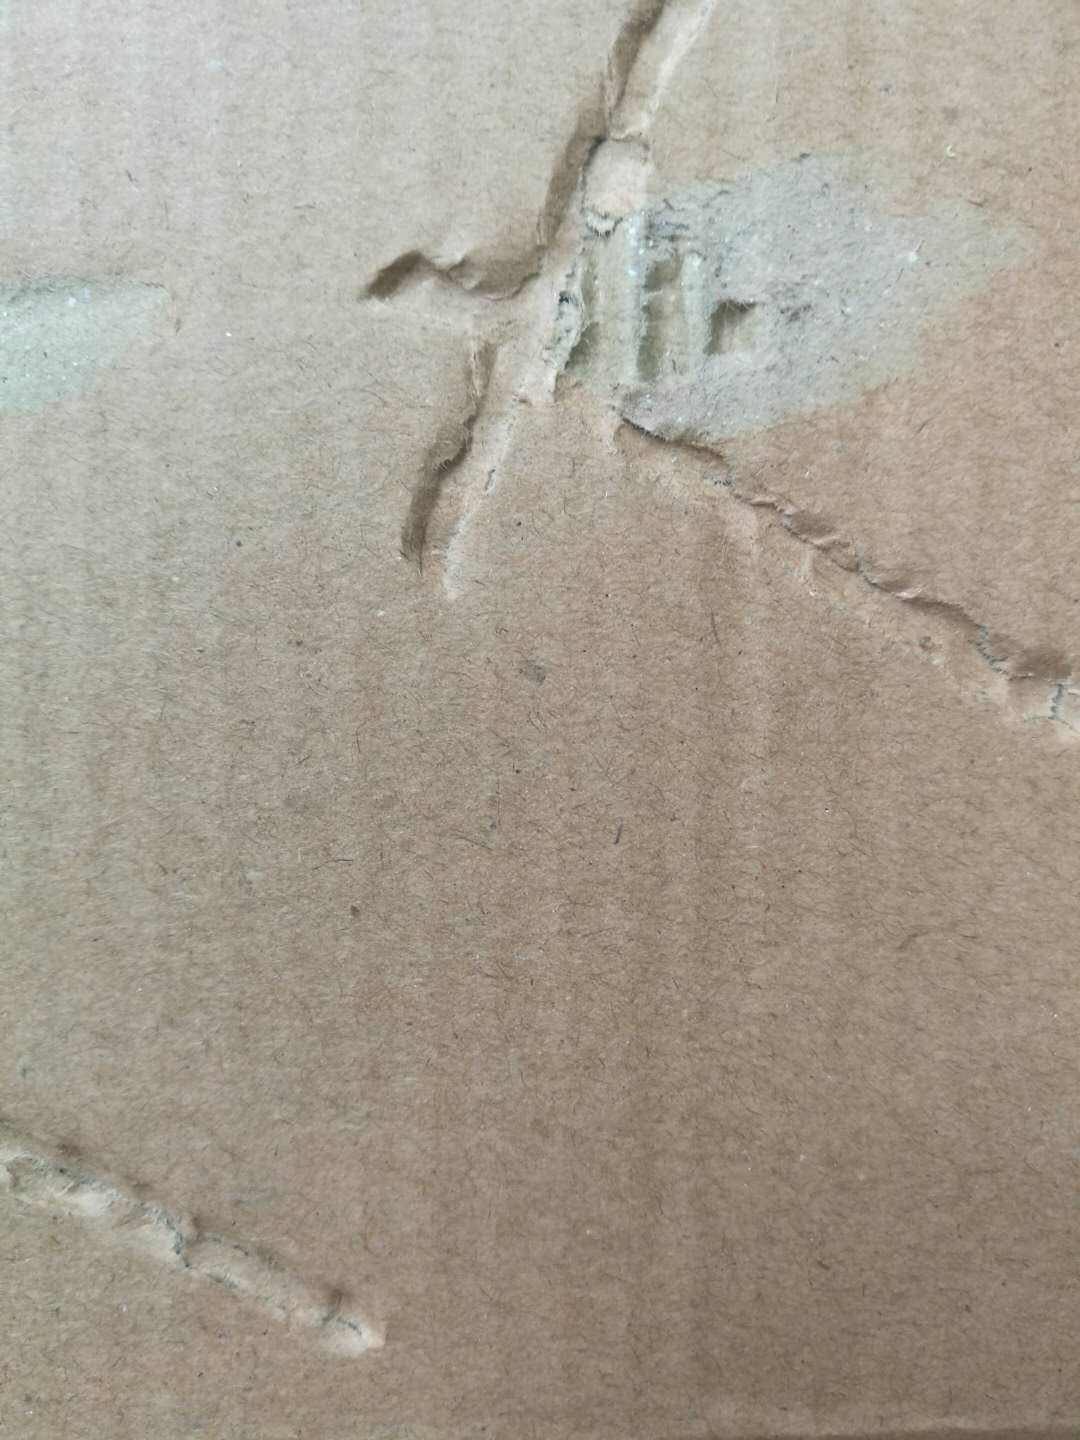defect: (307, 5, 1080, 781), (1, 1082, 414, 1379), (2, 232, 205, 437)
